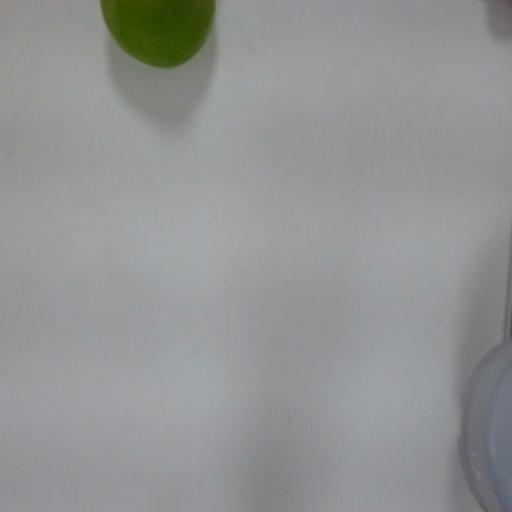Unripe: (95, 0, 236, 69)
